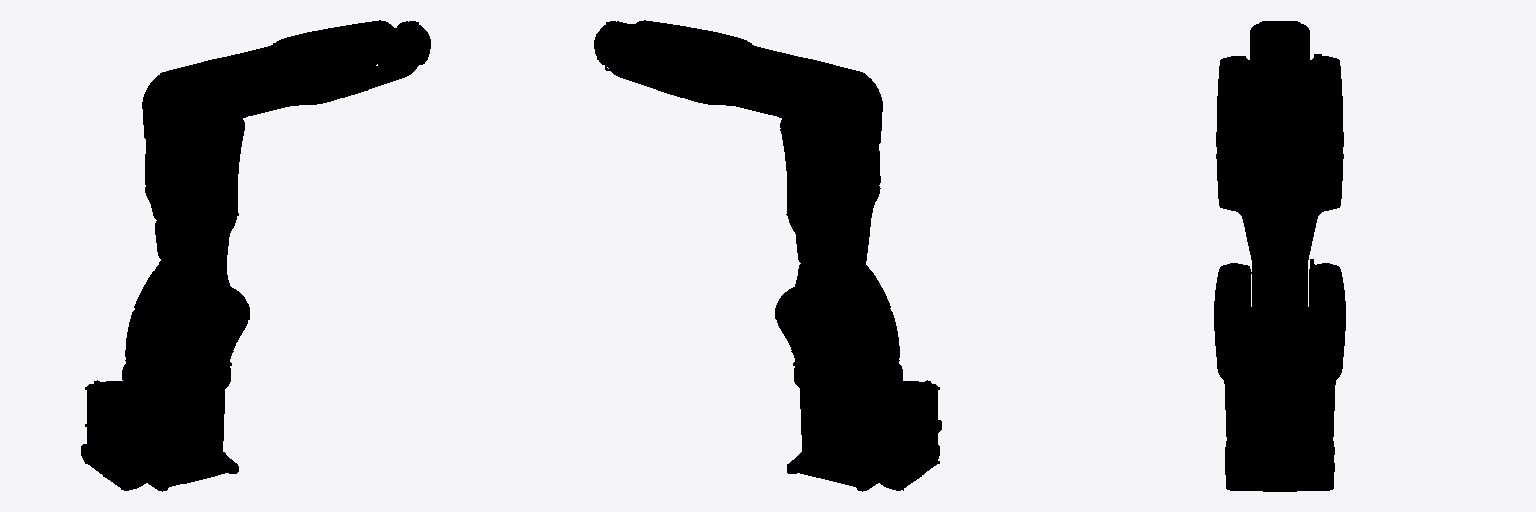
URDF robot description (mz07L):
<?xml version="1.0" encoding="utf-8"?>

<robot name="mz07L">
  <link name="base_link">
    <visual>
      <geometry>
        <mesh filename="package://mz07l_description/meshes/visual/mz07_base_link.dae" />
      </geometry>
      <material name="white">
        <color rgba="0 0 0 0.5"/>
      </material>
    </visual>
    <collision>
      <geometry>
        <mesh filename="package://mz07l_description/meshes/collision/mz07_base_link.STL" />
      </geometry>
    </collision>
  </link>
  <link name="link1">
    <visual>
      <geometry>
        <mesh filename="package://mz07l_description/meshes/visual/mz07_link1.dae" />
      </geometry>
      <material name="white">
        <color rgba="0 0 0 0.5"/>
      </material>
    </visual>
    <collision>
      <geometry>
        <mesh filename="package://mz07l_description/meshes/collision/mz07_link1.STL" />
      </geometry>
    </collision>
  </link>
  <joint name="joint_base_to_link1" type="revolute">
    <origin xyz="0 0 0.195" rpy="0 0 0" />
    <parent link="base_link" />
    <child link="link1" />
    <axis xyz="0 0 1" />
    <limit effort="100" lower="-2.9670" upper="2.9670" velocity="5.2359" />
  </joint>
  <link name="link2">
    <visual>
      <geometry>
        <mesh filename="package://mz07l_description/meshes/visual/mz07_link2.dae" />
      </geometry>
      <material name="white">
        <color rgba="0 0 0 0.5"/>
      </material>
    </visual>
    <collision>
      <geometry>
        <mesh filename="package://mz07l_description/meshes/collision/mz07_link2.STL" />
      </geometry>
    </collision>
  </link>
  <joint name="joint_link1_to_link2" type="revolute">
    <origin xyz="0.05 0 0.15" rpy="0 0 0" />
    <parent link="link1" />
    <child link="link2" />
    <axis xyz="0 -1 0" />
    <limit effort="100" lower="-2.3561" upper="1.3962" velocity="4.8869" />
  </joint>
  <link name="link3">
    <visual>
      <geometry>
        <mesh filename="package://mz07l_description/meshes/visual/mz07_link3.dae" />
      </geometry>
      <material name="white">
        <color rgba="0 0 0 0.5"/>
      </material>
    </visual>
    <collision>
      <geometry>
        <mesh filename="package://mz07l_description/meshes/collision/mz07_link3.STL" />
      </geometry>
    </collision>
  </link>
  <joint name="joint_link2_to_link3" type="revolute">
    <origin xyz="0 0 0.410" rpy="0 0 0" />
    <parent link="link2" />
    <child link="link3" />
    <axis xyz="0 -1 0" />
    <limit effort="100" lower="-2.373648" upper="4.712389" velocity="6.283185" />
  </joint>
  <link name="link4">
    <visual>
      <geometry>
        <mesh filename="package://mz07l_description/meshes/visual/mz07_link4.dae" />
      </geometry>
      <material name="white">
        <color rgba="0 0 0 0.5"/>
      </material>
    </visual>
    <collision>
      <geometry>
        <mesh filename="package://mz07l_description/meshes/collision/mz07_link4.STL" />
      </geometry>
    </collision>
  </link>
  <joint name="joint_link3_to_link4" type="revolute">
    <origin xyz="0.09 0 0.045" rpy="0 0 0" />
    <parent link="link3" />
    <child link="link4" />
    <axis xyz="1 0 0" />
    <limit effort="100" lower="-3.316126" upper="3.316126" velocity="9.599311" />
  </joint>
  <link name="link5">
    <visual>
      <geometry>
        <mesh filename="package://mz07l_description/meshes/visual/mz07_link5.dae" />
      </geometry>
      <material name="white">
        <color rgba="0 0 0 0.5"/>
      </material>
    </visual>
    <collision>
      <geometry>
        <mesh filename="package://mz07l_description/meshes/collision/mz07_link5.STL" />
      </geometry>
    </collision>
  </link>
  <joint name="joint_link4_to_link5" type="revolute">
    <origin xyz="0.350 0 0" rpy="0 0 0" />
    <parent link="link4" />
    <child link="link5" />
    <axis xyz="0 -1 0" />
    <limit effort="100" lower="-2.0943" upper="2.0943" velocity="9.599311" />
  </joint>
  <link name="link6">
    <visual>
    <origin xyz="0 0 0" rpy="0 0 0" />
      <geometry>
        <mesh filename="package://mz07l_description/meshes/visual/mz07_link6.dae" />
      </geometry>
      <material name="white">
        <color rgba="0 0 0 0.5"/>
      </material>
    </visual>
    <collision>
      <geometry>
        <mesh filename="package://mz07l_description/meshes/collision/mz07_link6.STL" />
      </geometry>
    </collision>
  </link>
  <joint name="joint_link5_to_link6" type="revolute">
    <origin xyz="0.073 0 0" rpy="0 1.570796 0" />
    <parent link="link5" />
    <child link="link6" />
    <axis xyz="0 0 1" />
    <limit effort="100" lower="-6.283185" upper="6.283185" velocity="17.453293" />
  </joint>

  <!-- <link name="gripper">
    <visual>
      <geometry>
          <mesh filename="package://mz07l_description/meshes/visual/piab_single_cup.dae" />
      </geometry>
      <material name="grey">
        <color rgba="0.75 0.75 0.75 1"/>
      </material>
    </visual>
    <collision>
      <geometry>
          <mesh filename="package://mz07l_description/meshes/collision/piab_single_cup.stl" />
      </geometry>
    </collision>
  </link>

  <joint name="gripper_joint" type="fixed">
      <parent link="link6" />
      <child link="gripper" />
      <origin rpy="0 0 0" xyz="0 0 0" />
  </joint>

  <link name="tcp"/>
  <joint name="tcp_joint" type="fixed">
    <origin rpy="0 0 -3.141592653589793" xyz="0 0 0.3"/>
    <parent link="gripper"/>
    <child link="tcp"/>
  </joint> -->

  <!-- robot-gripper adaptor mount -->
  <link name="gripper">
    <visual>
      <geometry>
          <mesh filename="package://mz07l_description/meshes/visual/quatro_cup.stl" />
      </geometry>
      <material name="grey">
        <color rgba="0.75 0.75 0.75 1"/>
      </material>
    </visual>
    <collision>
      <geometry>
          <mesh filename="package://mz07l_description/meshes/collision/quatro_cup.stl" />
      </geometry>
    </collision>
  </link>

  <!-- <link name="rot"/>
  <joint name="rot_joint" type="fixed">
      <origin rpy="0 0 -2.35619449" xyz="0 0 0"/>
      <parent link="link6"/>
      <child link="rot"/>
  </joint> -->


  <link name="rot"/>
  <joint name="rot_joint" type="fixed">
      <origin rpy="0 0 -3.14159265" xyz="0 0 0"/>
      <parent link="link6"/>
      <child link="rot"/>
  </joint>
  


  <joint name="gripper_joint" type="fixed">
      <parent link="rot" />
      <child link="gripper" />
      <origin rpy="0 0 0" xyz="0 0 0"/>
  </joint>


  <!-- <link name="tcp"/>
  <joint name="tcp_joint" type="fixed">
      <origin rpy="0 0 0" xyz="0 0 0.24"/>
      <parent link="rot"/>
      <child link="tcp"/>
  </joint> -->



  <link name="tcp"/>
  <joint name="tcp_joint" type="fixed">
      <origin rpy="0 0 0" xyz="0 0 0.29"/>
      <parent link="rot"/>
      <child link="tcp"/>
  </joint>

</robot>

--- Facts derived from the render (not from the file) ---
The picture shows the robot from 3 angles, left to right: view 1: azimuth 30°, elevation 25°; view 2: azimuth 150°, elevation 25°; view 3: azimuth 270°, elevation 25°; orthographic projection.
Robot: mz07L — 10 links, 9 joints (6 revolute, 3 fixed); root link base_link; default pose: all joints at 0.
Visible links, largest first — view 1: link2, base_link, link1, link4, link3, link5; view 2: link2, base_link, link1, link4, link3, link5; view 3: link2, link1, base_link, link4, link3, link5, link6.
Link boxes in pixels (x1,y1,x2,y2): link2: (145, 102, 244, 325); base_link: (81, 380, 238, 491); link1: (122, 265, 249, 400); link4: (229, 20, 420, 115); link3: (142, 56, 250, 160); link5: (366, 21, 429, 65); link2: (780, 102, 880, 326); base_link: (787, 380, 941, 491); link1: (775, 265, 902, 400); link4: (604, 20, 796, 115); link3: (774, 56, 882, 158); link5: (596, 21, 662, 64); link2: (1216, 54, 1343, 337); link1: (1214, 259, 1345, 398); base_link: (1224, 381, 1335, 491); link4: (1242, 59, 1317, 197); link3: (1243, 21, 1311, 94); link5: (1253, 147, 1306, 209); link6: (1259, 168, 1300, 206).
Size in the robot's own frame: 0.7604 by 0.23 by 0.8609 metres.
Meshes: 8 distinct files referenced, 7 mesh visuals loaded (7 Collada DAE); not drawn: 1 (reference not matched to a file when rendering).
